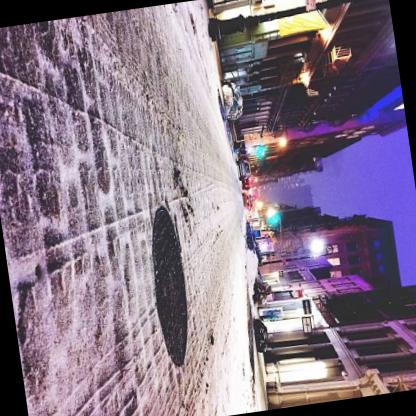manholes: (108, 182, 214, 396)
